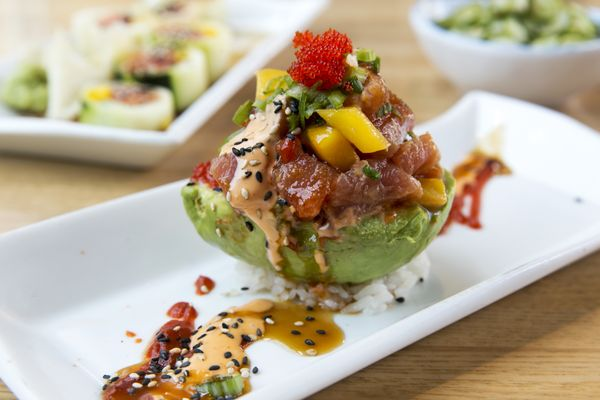soup: (180, 26, 459, 285)
sushi: (0, 1, 296, 170), (407, 1, 600, 121)
